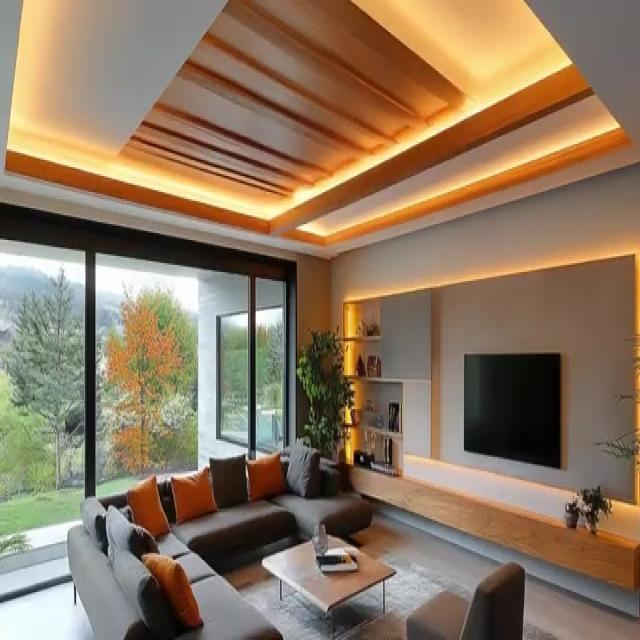obstacle: (67, 444, 372, 638), (341, 288, 431, 478), (261, 532, 396, 638), (407, 563, 525, 640)
